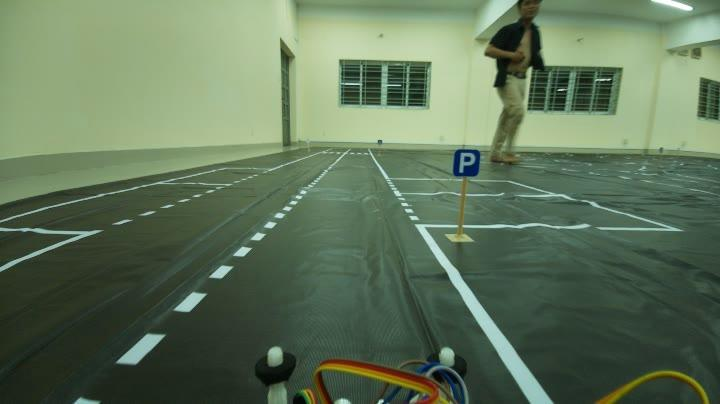parking: (450, 142, 484, 186)
